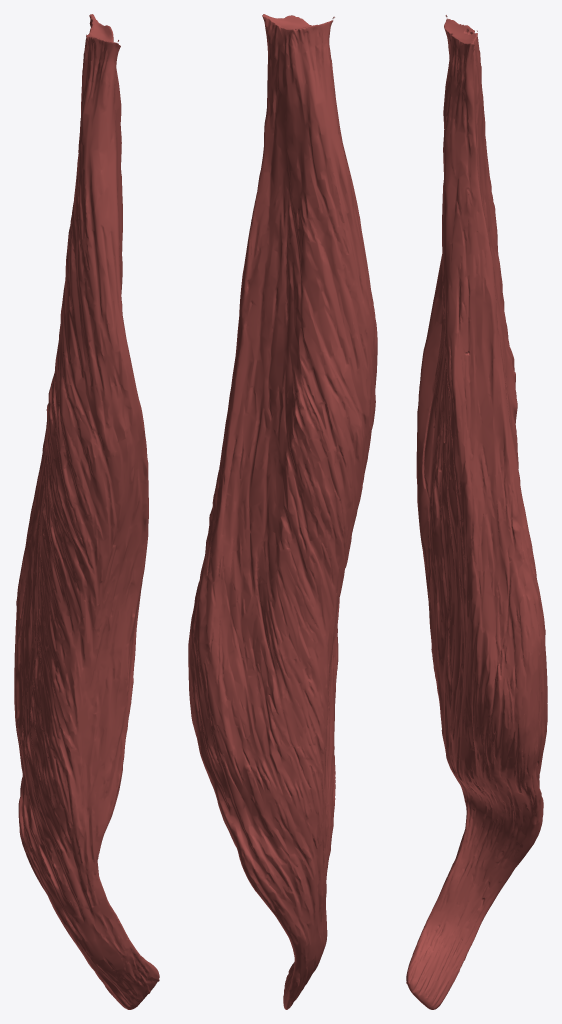
File: FMA22449.glb
The picture shows the model from 3 angles, left to right: view 1: azimuth 90°, elevation 25°; view 2: azimuth 150°, elevation 25°; view 3: azimuth 270°, elevation 25°; orthographic projection. The views are drawn at different scales.
Visible parts, largest first — view 1: FMA22449; view 2: FMA22449; view 3: FMA22449.
Boxes of the visible parts, left/top/right/bottom form: FMA22449: left=14, top=14, right=159, bottom=1009; FMA22449: left=188, top=14, right=377, bottom=1009; FMA22449: left=406, top=15, right=547, bottom=1009.
Bounding box in the file's own units: 0.0617 × 0.4043 × 0.0535.
